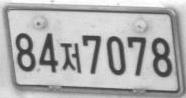0: (106, 35, 126, 76)
4: (38, 33, 58, 73)
7: (81, 34, 102, 75), (126, 36, 147, 76)
8: (150, 36, 172, 78), (14, 32, 36, 72)
저: (59, 42, 82, 73)
